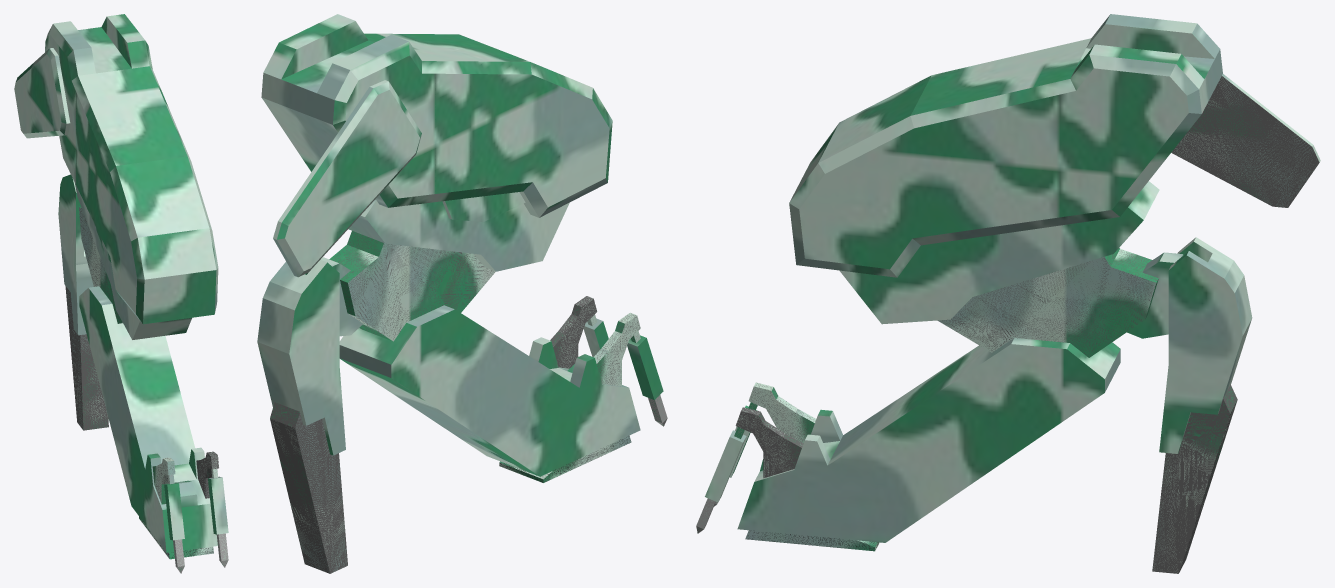
Rendered from luoRobot1LeftLeg.dae.
The picture shows the model from 3 angles, left to right: view 1: azimuth 30°, elevation 25°; view 2: azimuth 150°, elevation 25°; view 3: azimuth 270°, elevation 25°; orthographic projection. The views are drawn at different scales.
Visible parts, largest first — view 1: SketchUp (×12); view 2: SketchUp (×10); view 3: SketchUp (×10).
Part boxes in pixels (left/top/right/bottom): SketchUp (×12): left=14, top=14, right=228, bottom=573; SketchUp (×10): left=257, top=14, right=663, bottom=573; SketchUp (×10): left=705, top=14, right=1320, bottom=573.
Size of the model in its own units: 70.17 by 220 by 204.
Materials: 4 (1 with a texture image).
